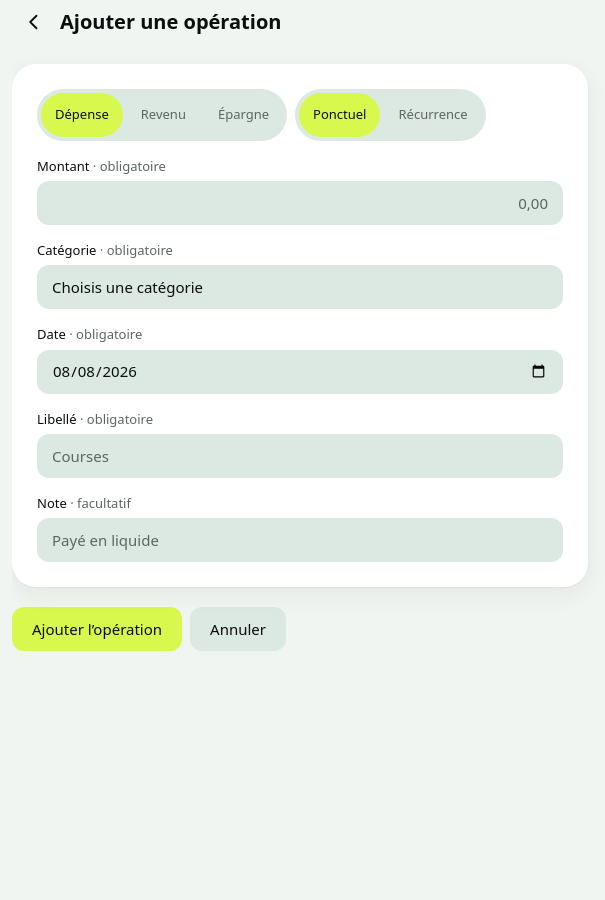
Scenario: ce qui est enregistré suit le rythme, pas la porte › nomme dans son bouton ce qui va être créé
Expected: the button "Ajouter l’opération" is shown, [12,607,182,651]
Click the radio button labelled "Récurrence": {"x": 433, "y": 115} [384,93,482,137]
(page scrolled)
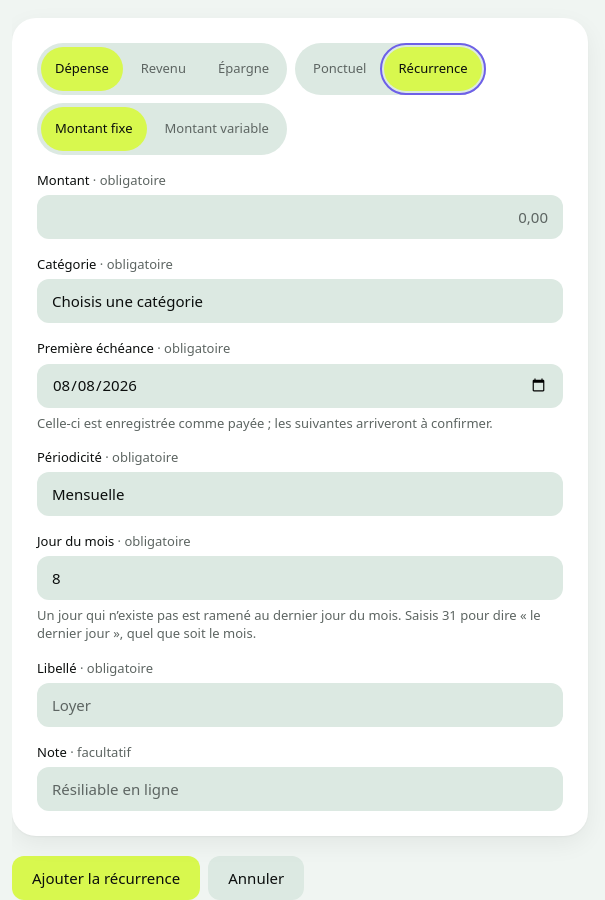
Expected: the button "Ajouter la récurrence" is shown, [12,856,200,899]
